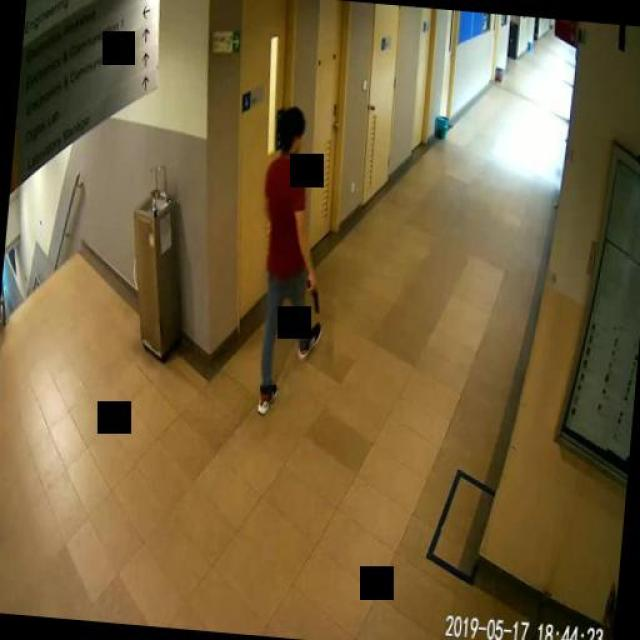gun: (304, 275, 320, 310)
